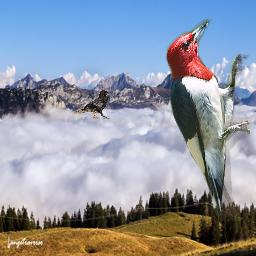Crow: (73, 90, 112, 119)
Woodpecker: (165, 19, 250, 221)
